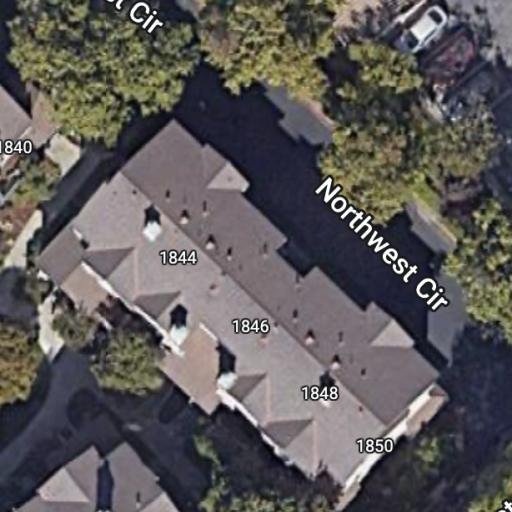Building-Roof: (36, 121, 438, 489)
